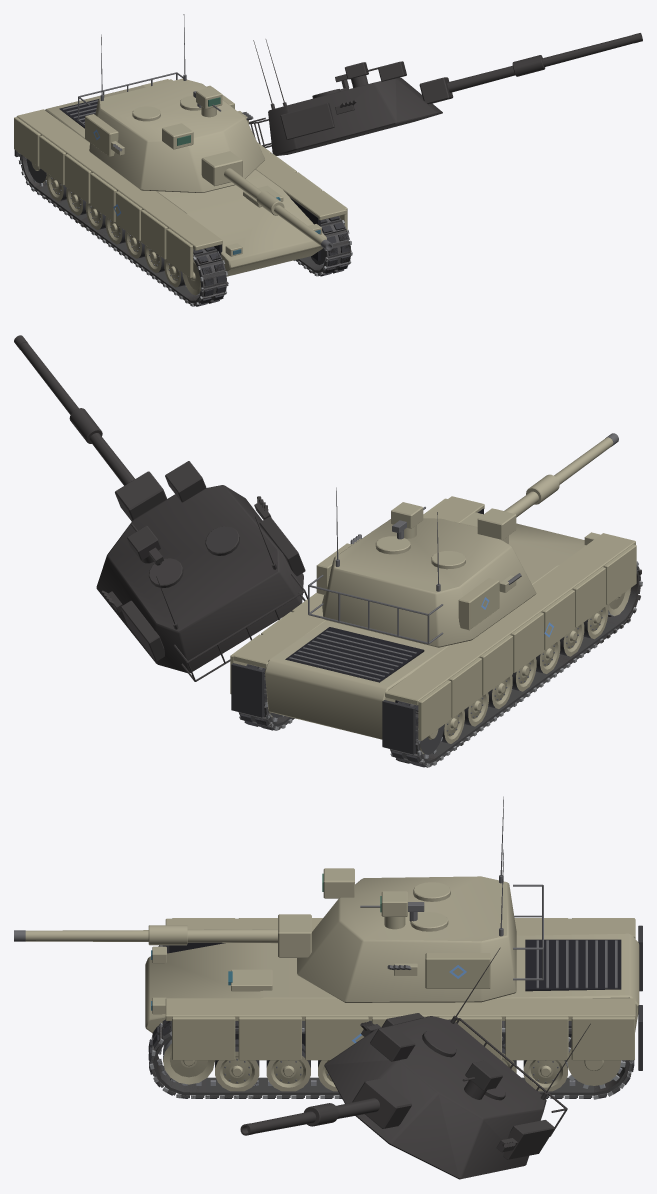
Rendered from tank__ariete.glb.
The picture shows the model from 3 angles, top to bottom: view 1: azimuth 30°, elevation 25°; view 2: azimuth 150°, elevation 25°; view 3: azimuth 270°, elevation 25°; orthographic projection. The views are drawn at different scales.
Visible parts, largest first — view 1: Hull_Mesh, Wreck, Turret_Mesh, Track_L_Mesh, Gun_Mesh, Track_R_Mesh, Gunner_Sight_Mesh, CITV_Mesh; view 2: Hull_Mesh, Wreck, Turret_Mesh, Track_L_Mesh, Gun_Mesh, Gunner_Sight_Mesh, Track_R_Mesh, CITV_Mesh; view 3: Hull_Mesh, Wreck, Turret_Mesh, Gun_Mesh, Track_R_Mesh, Sprocket_R_Mesh, Wheel_R6_Mesh, Wheel_R5_Mesh, Idler_R_Mesh, Wheel_R0_Mesh, Gunner_Sight_Mesh, CITV_Mesh (+2 smaller).
Boxes of the visible parts, x1,y1,x2,y2 form: Hull_Mesh: [14, 79, 347, 277]; Wreck: [19, 33, 642, 305]; Turret_Mesh: [78, 72, 264, 192]; Track_L_Mesh: [18, 152, 228, 306]; Gun_Mesh: [201, 151, 332, 250]; Track_R_Mesh: [294, 216, 352, 276]; Gunner_Sight_Mesh: [162, 123, 193, 149]; CITV_Mesh: [196, 87, 222, 117]; Hull_Mesh: [230, 496, 636, 754]; Wreck: [14, 335, 641, 767]; Turret_Mesh: [308, 518, 536, 647]; Track_L_Mesh: [390, 561, 642, 767]; Gun_Mesh: [460, 433, 618, 543]; Gunner_Sight_Mesh: [477, 508, 516, 539]; Track_R_Mesh: [238, 664, 292, 730]; CITV_Mesh: [391, 502, 423, 538]; Hull_Mesh: [145, 918, 642, 1070]; Wreck: [149, 945, 632, 1179]; Turret_Mesh: [297, 876, 543, 1002]; Gun_Mesh: [14, 914, 311, 957]; Track_R_Mesh: [148, 1019, 634, 1099]; Sprocket_R_Mesh: [566, 1036, 625, 1088]; Wheel_R6_Mesh: [215, 1039, 259, 1091]; Wheel_R5_Mesh: [266, 1043, 310, 1091]; Idler_R_Mesh: [163, 1039, 214, 1084]; Wheel_R0_Mesh: [523, 1060, 567, 1091]; Gunner_Sight_Mesh: [322, 868, 354, 898]; CITV_Mesh: [380, 891, 407, 929].
Size of what is drawn, in the model's own units: 11.18 by 3.88 by 9.63.
